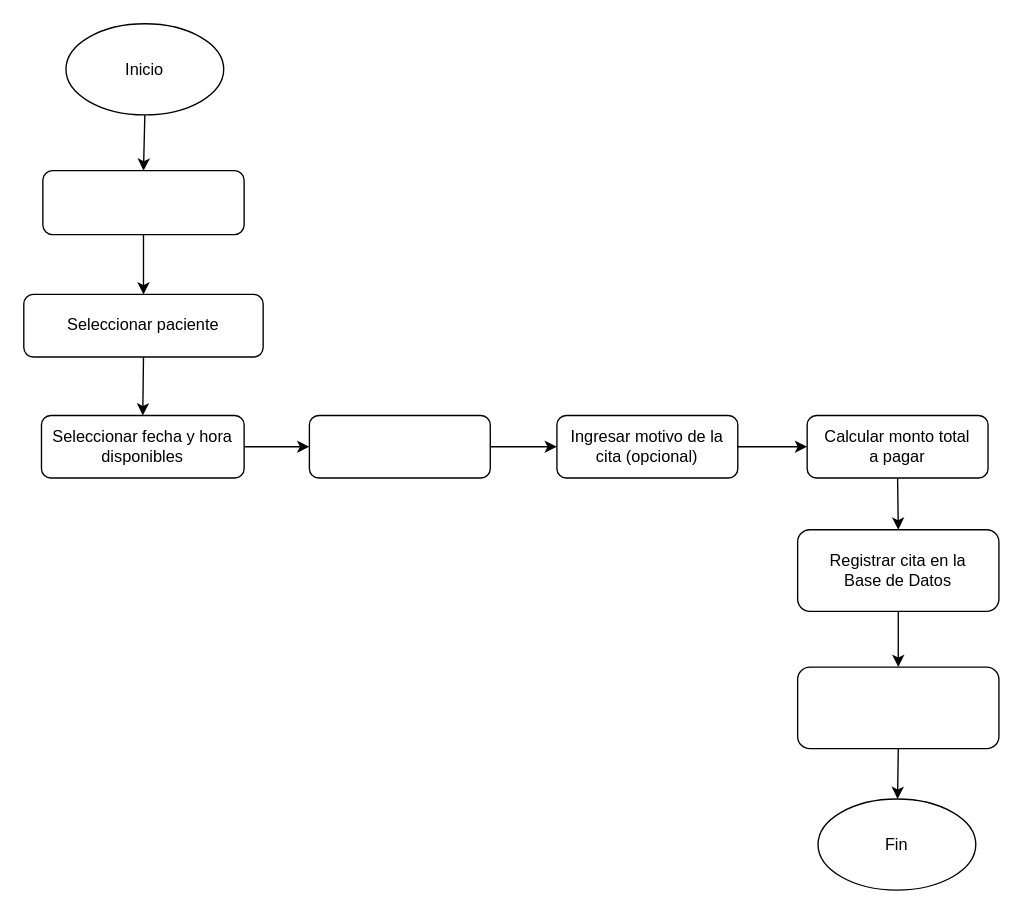
This 1023x914 diagram has some shape labels left out. Each missing label, with the centre of its shape:
"Elegir tratamiento(s)" belongs at point (399, 446).
"Mostrar formulario" belongs at point (142, 202).
"Mostrar la cita en la agenda" belongs at point (897, 707).
